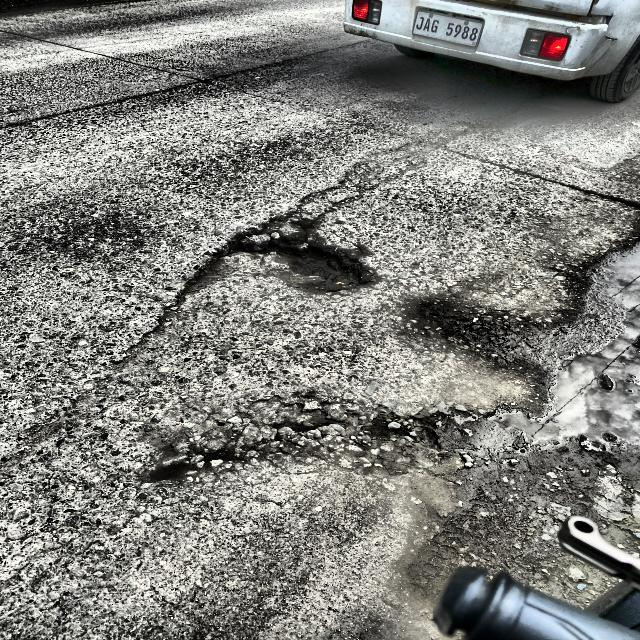major_scaling: (2, 122, 364, 317)
pothole: (236, 223, 377, 294)
